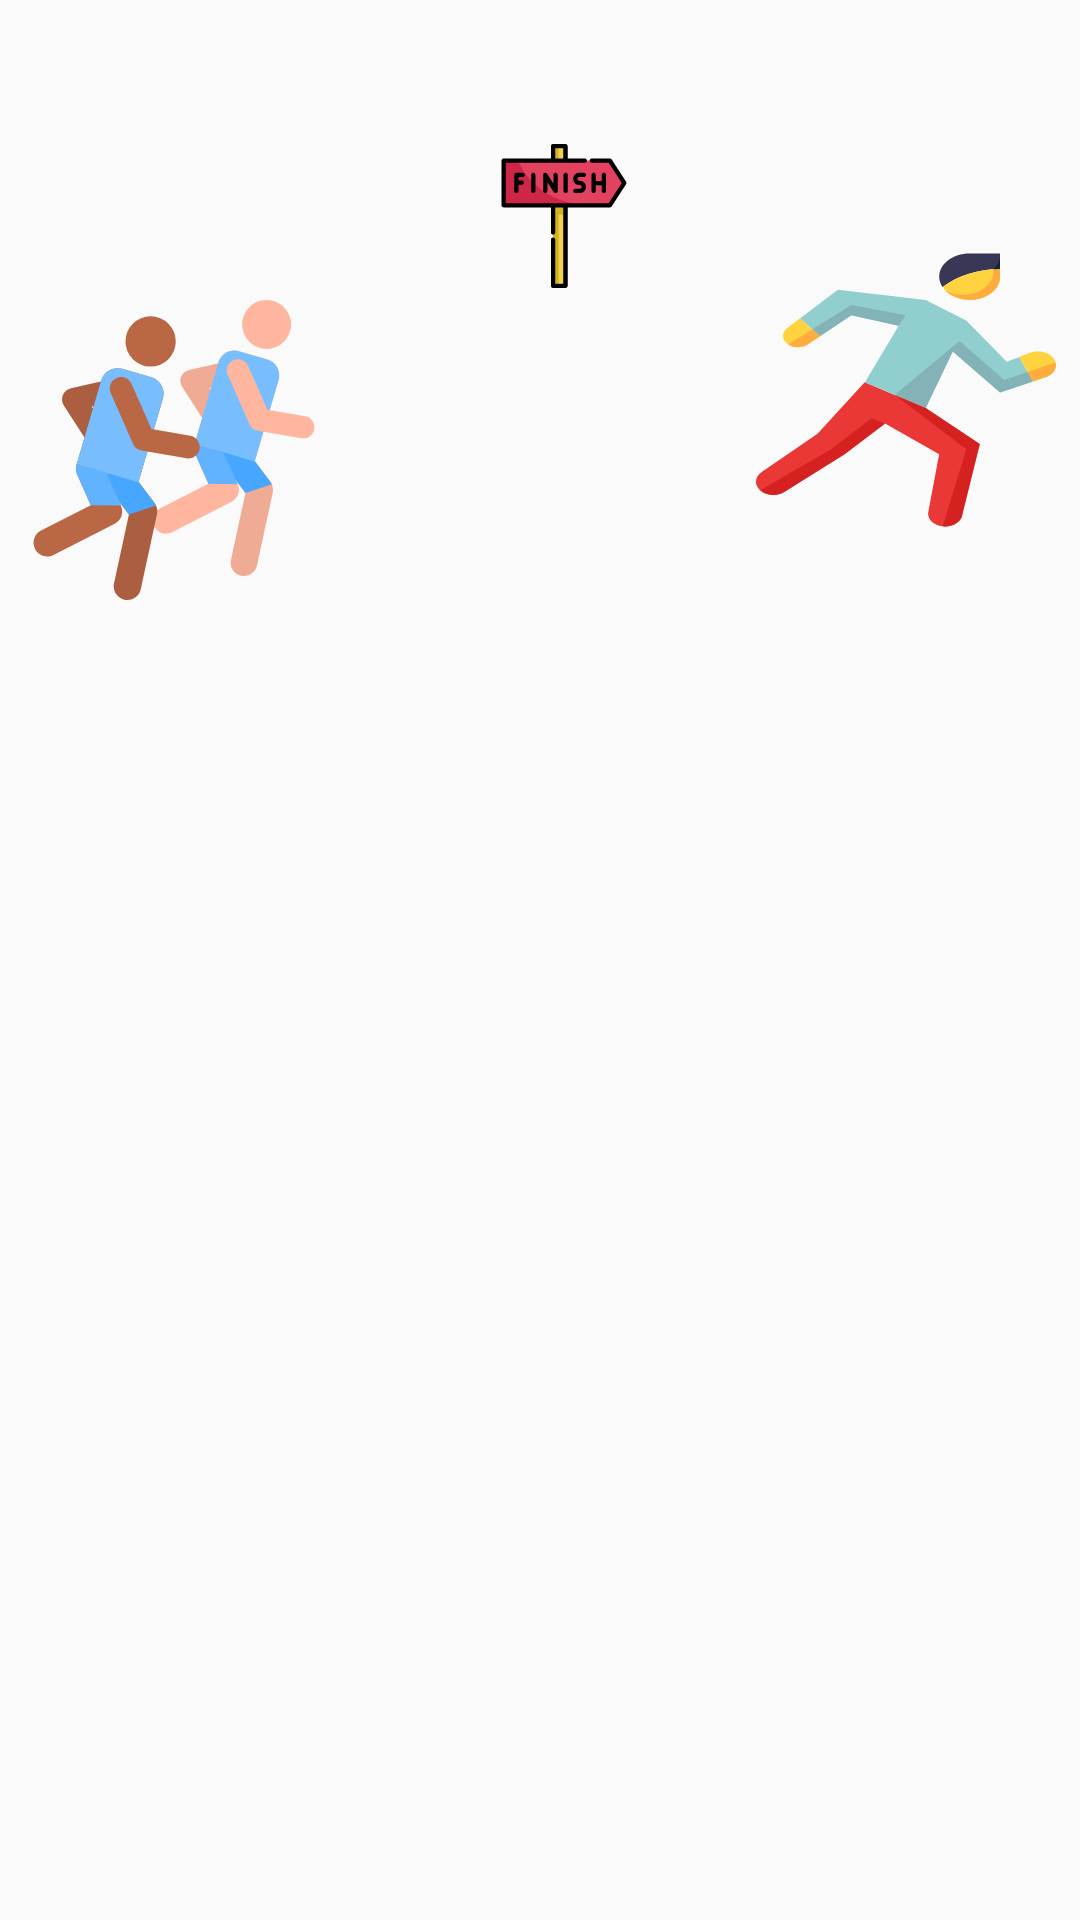

Locate icon controls on the screen. Image size 1080w x 1920h, boxes as (x1=x1, y1=y1, x2=x2, y2=y2).
run fast: (x1=756, y1=253, x2=1056, y2=527)
runners: (x1=33, y1=300, x2=315, y2=600)
